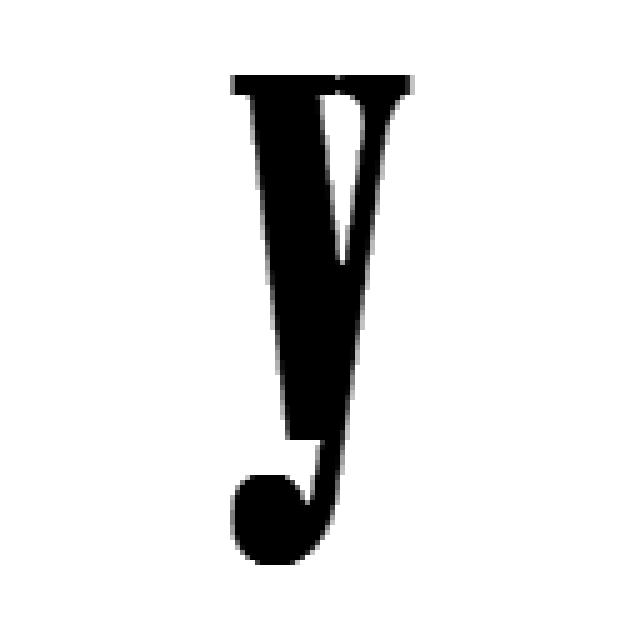Y: (215, 60, 420, 565)
